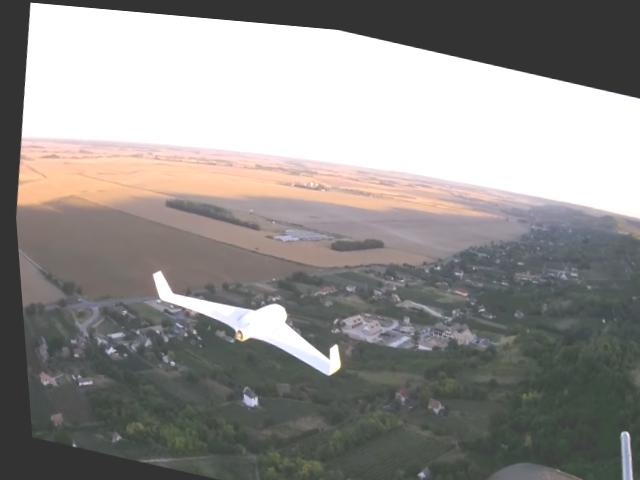plane: (141, 267, 344, 375)
